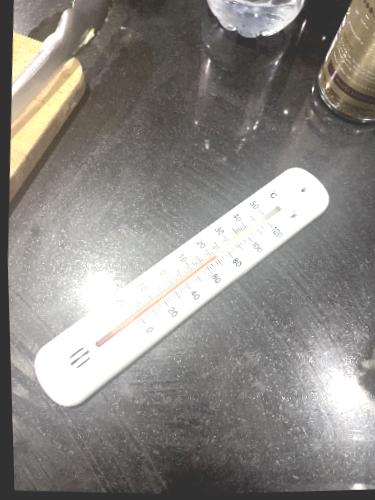thermo: (19, 158, 346, 419)
